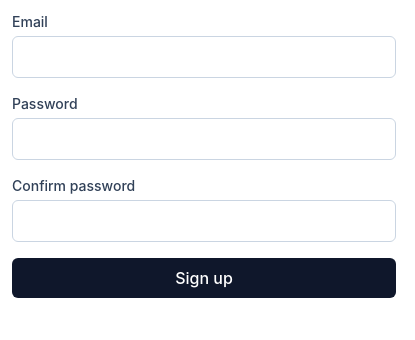
Scenario: SignUpForm › shows a mismatch error when passwords differ
The image size is (415, 340).
Step 1. Type "user@example.com" into the field labelled "Email" → [204, 57], box [12,36,396,78]
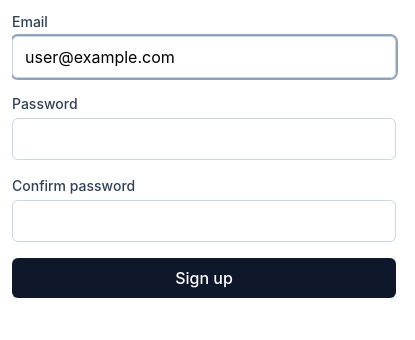
Step 2. Type "password1" into the password field labelled "Password" → [204, 139], box [12,118,396,160]
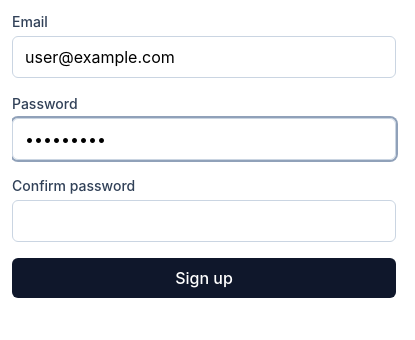
Step 3. Type "password2" into the password field labelled "Confirm password" → [204, 221], box [12,200,396,242]
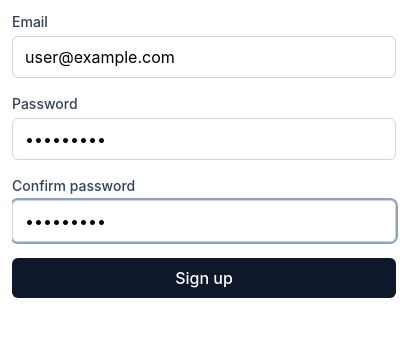
Step 4. Click the button "Sign up" → [204, 278], box [12,258,396,298]
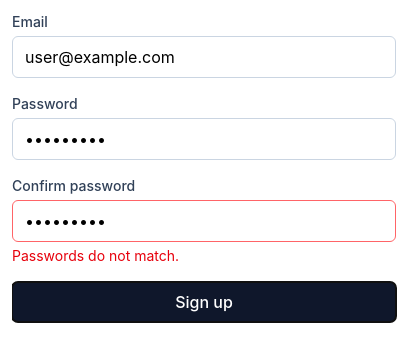
Now the text "Passwords do not match." is shown, box [12,247,179,264]
